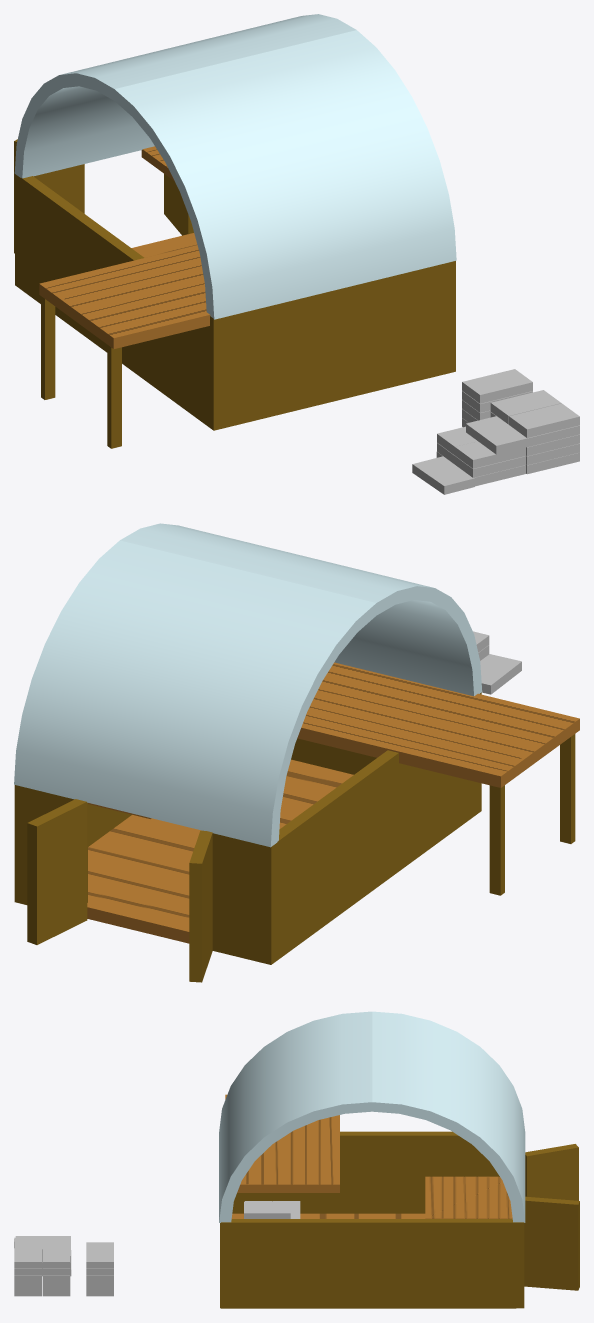
Rendered from 34loka.fbx.
3 renders of one model, top to bottom at view 1: azimuth 30°, elevation 25°; view 2: azimuth 150°, elevation 25°; view 3: azimuth 270°, elevation 25°, orthographic. The views are drawn at different scales.
Parts seen in each view (by area): view 1: Cube, Cube.030, Cube.004; view 2: Cube, Cube.030; view 3: Cube, Cube.030, Cube.004, Cube.045.
Boxes of the visible parts, left/top/right/bottom form: Cube: left=14, top=14, right=456, bottom=448; Cube.030: left=412, top=390, right=579, bottom=494; Cube.004: left=462, top=369, right=532, bottom=427; Cube: left=14, top=523, right=579, bottom=982; Cube.030: left=473, top=631, right=521, bottom=694; Cube: left=219, top=1011, right=579, bottom=1308; Cube.030: left=14, top=1236, right=71, bottom=1296; Cube.004: left=86, top=1242, right=113, bottom=1296; Cube.045: left=244, top=1201, right=290, bottom=1218.
Bounding box in the file's own units: 4391 × 3335 × 8282.
